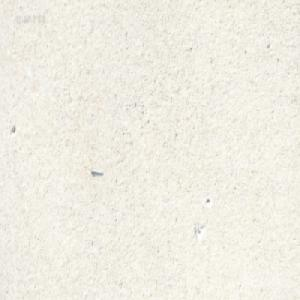Nail: (90, 165, 103, 174)
